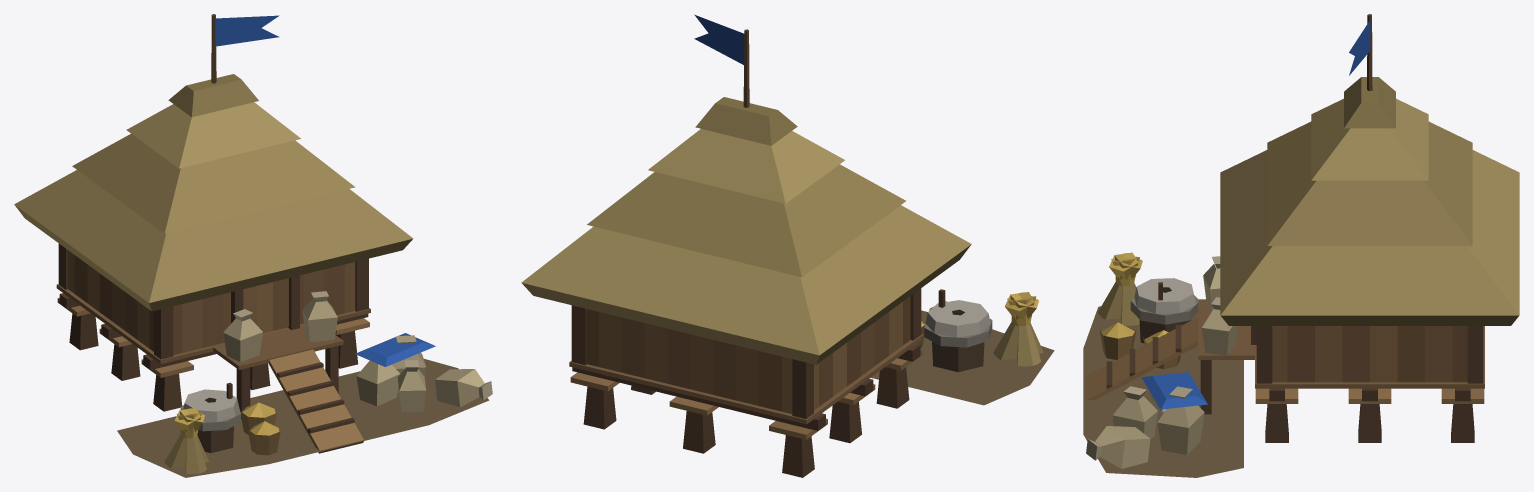
Rendered from mill.glb.
3 views of the same model, side by side, from view 1: azimuth 30°, elevation 25°; view 2: azimuth 150°, elevation 25°; view 3: azimuth 270°, elevation 25° (orthographic). The views are drawn at different scales.
Visible parts, largest first — view 1: mill; view 2: mill; view 3: mill.
Boxes of the visible parts, left/top/right/bottom form: mill: left=14, top=14, right=492, bottom=477; mill: left=521, top=14, right=1054, bottom=477; mill: left=1083, top=14, right=1519, bottom=477.
Bounding box in the file's own units: 5.4 × 5.3 × 5.54.
